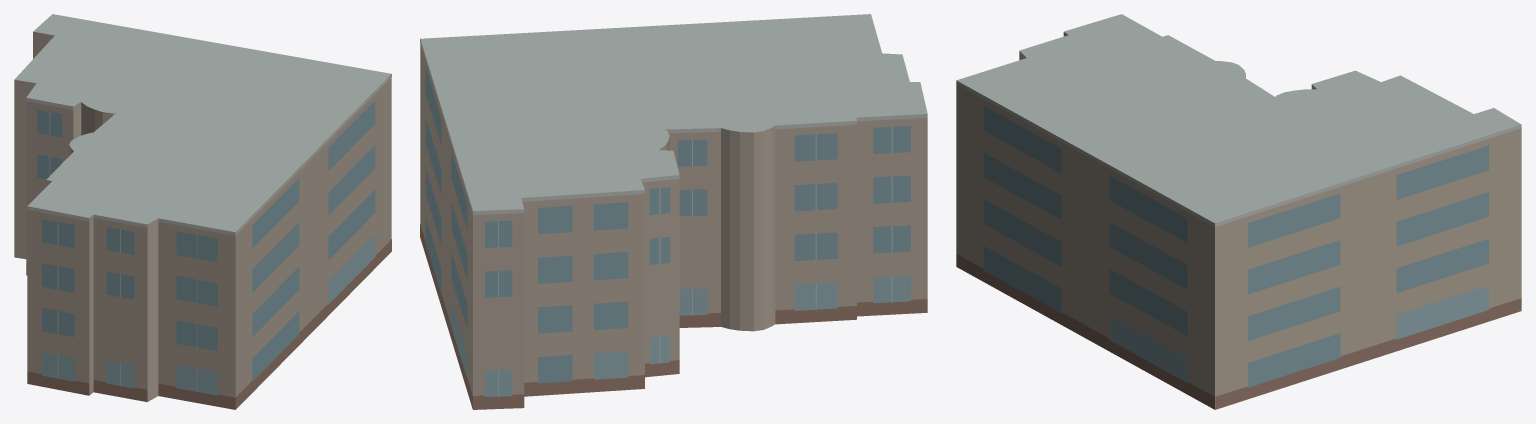
File: survey-upis-32743077.glb
3 renders of one model, left to right at view 1: azimuth 30°, elevation 25°; view 2: azimuth 150°, elevation 25°; view 3: azimuth 270°, elevation 25°, orthographic. The views are drawn at different scales.
Visible parts, largest first — view 1: survey-upis-32743077.tmp; view 2: survey-upis-32743077.tmp; view 3: survey-upis-32743077.tmp.
Part boxes in pixels (x1,y1,x2,y2): survey-upis-32743077.tmp: (14,14,391,409); survey-upis-32743077.tmp: (420,14,927,409); survey-upis-32743077.tmp: (956,14,1521,409).
Size of the model in its own units: 29.88 by 12.4 by 34.08.
